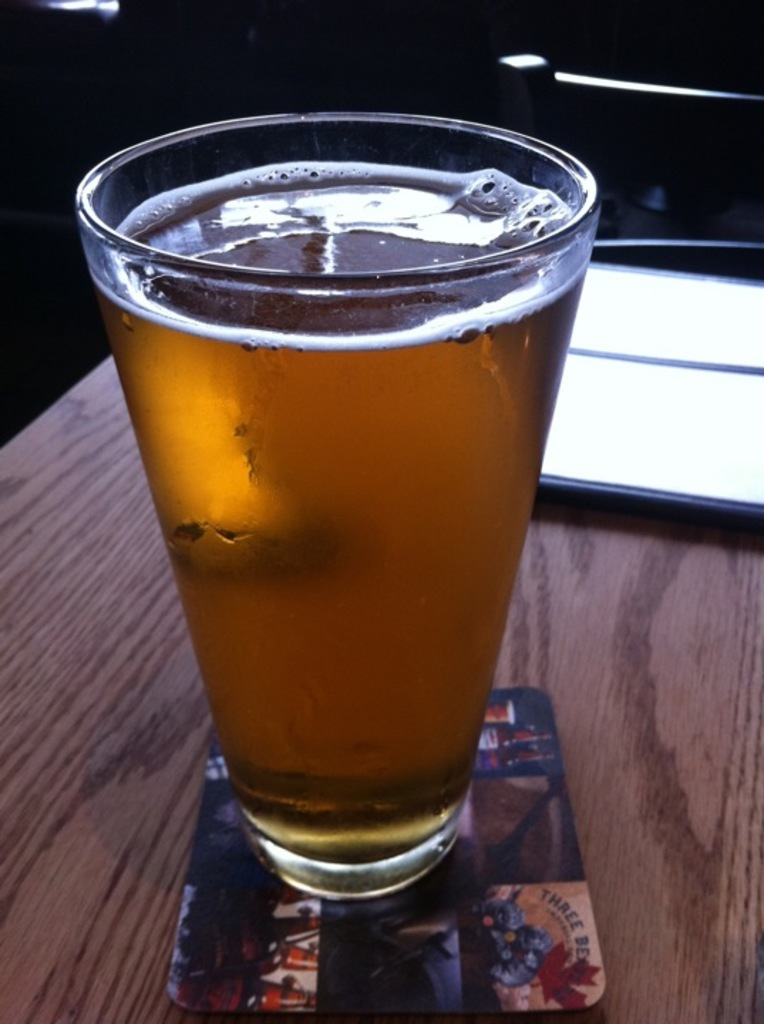Beer: (68, 100, 603, 903)
